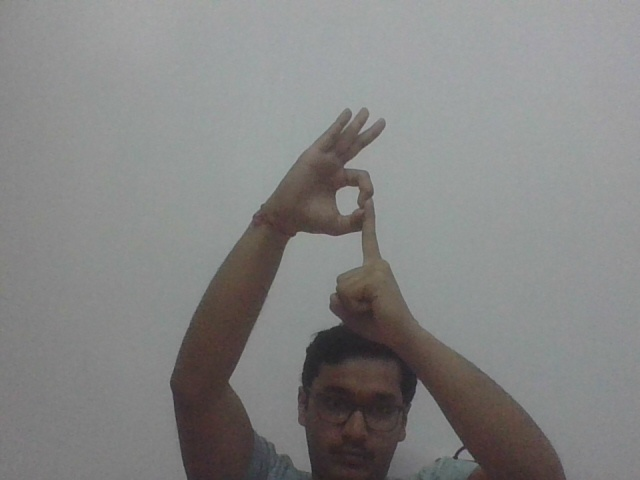P: (313, 106, 407, 301)
